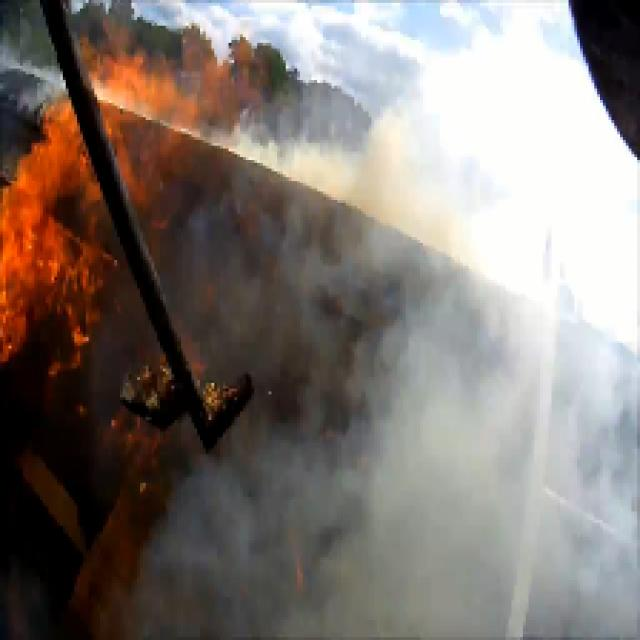fire: (15, 147, 76, 310)
smoke: (391, 105, 640, 635), (231, 346, 386, 637)
